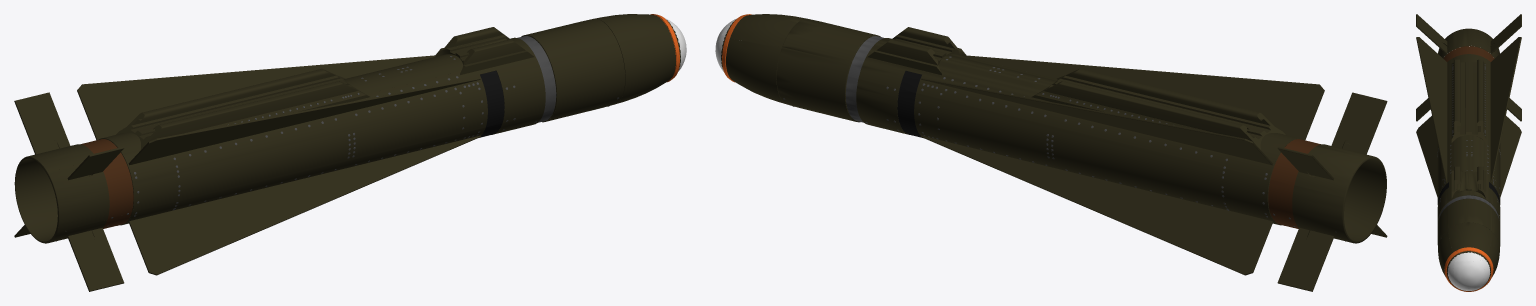
Rendered from agm_3.glb.
3 renders of one model, left to right at view 1: azimuth 30°, elevation 25°; view 2: azimuth 150°, elevation 25°; view 3: azimuth 270°, elevation 25°, orthographic. The views are drawn at different scales.
Visible parts, largest first — view 1: Cylinder_GREEN_0; view 2: Cylinder_GREEN_0; view 3: Cylinder_GREEN_0.
Part boxes in pixels (x1,y1,x2,y2): Cylinder_GREEN_0: (14,14,686,291); Cylinder_GREEN_0: (715,14,1387,291); Cylinder_GREEN_0: (1416,14,1521,291).
Size of the model in its own units: 1 by 0.2026 by 0.2026.
